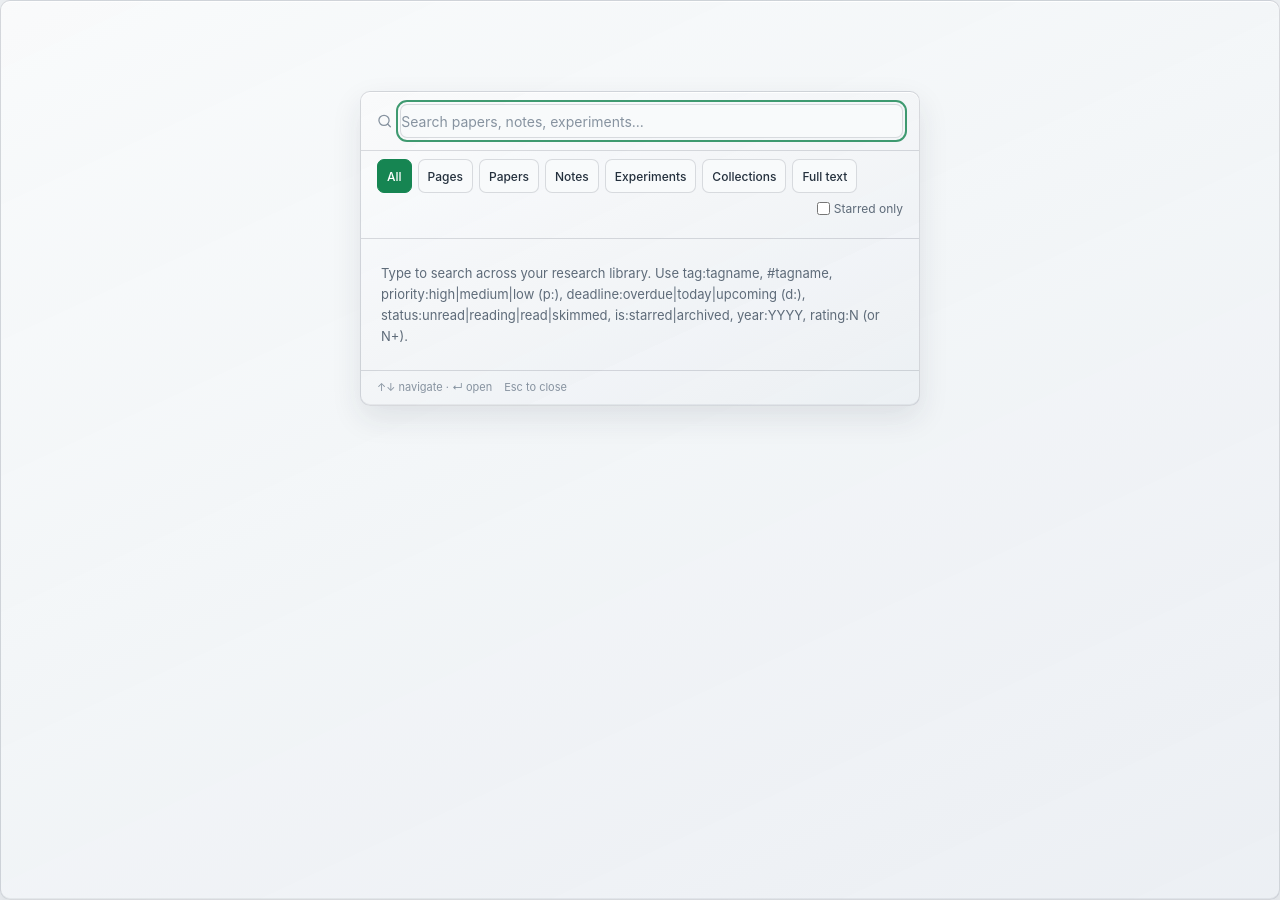
GlobalSearch full-text mode › searches paper bodies in the main process when full text is enabled
Enable full-text mode, then type a query.
Click the button with test id "fulltext-toggle" at (825, 176), box [792,159,857,193]
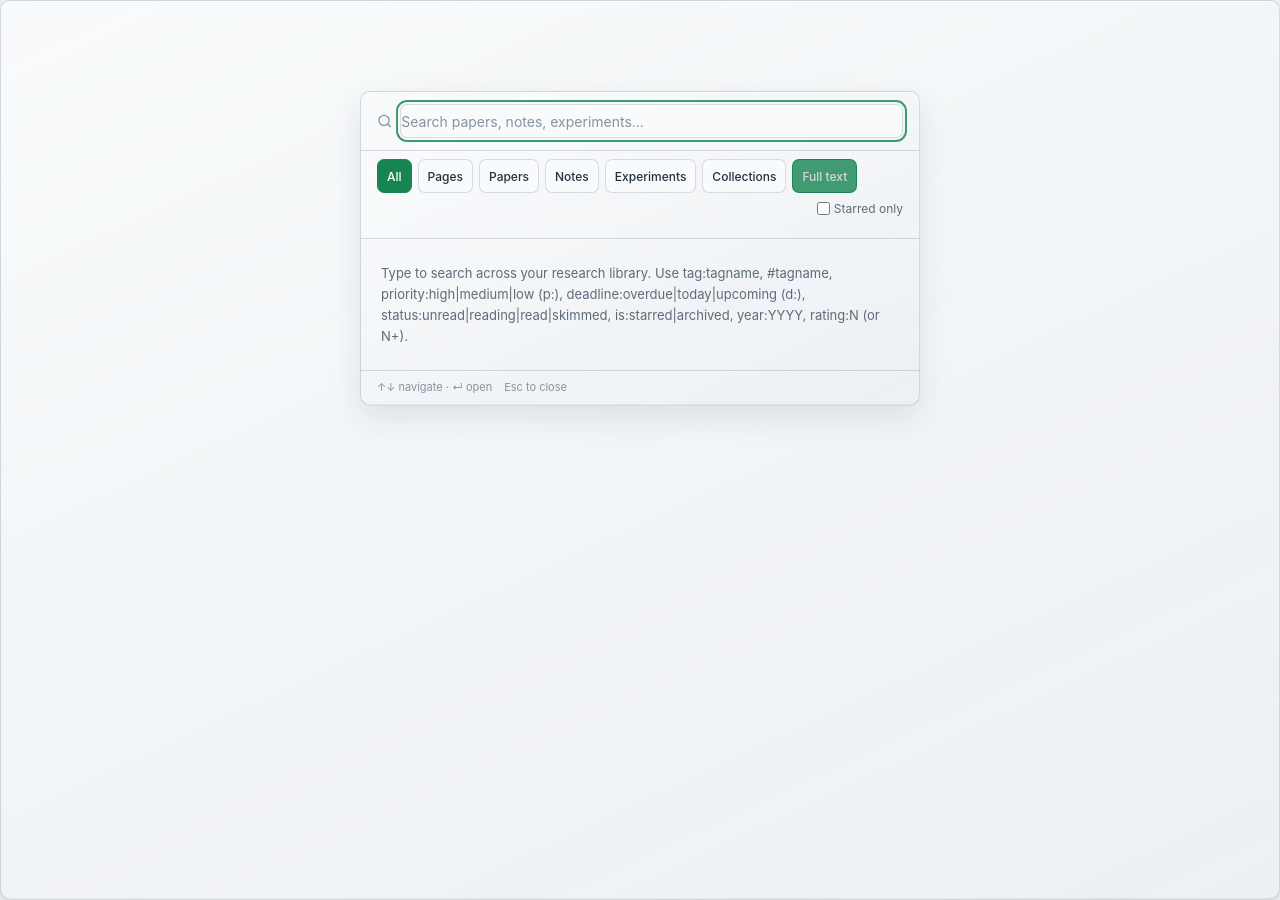
Type "attention mechanism" into the field with placeholder "Search papers, notes, experiments..." at (652, 121), box [400,104,903,138]
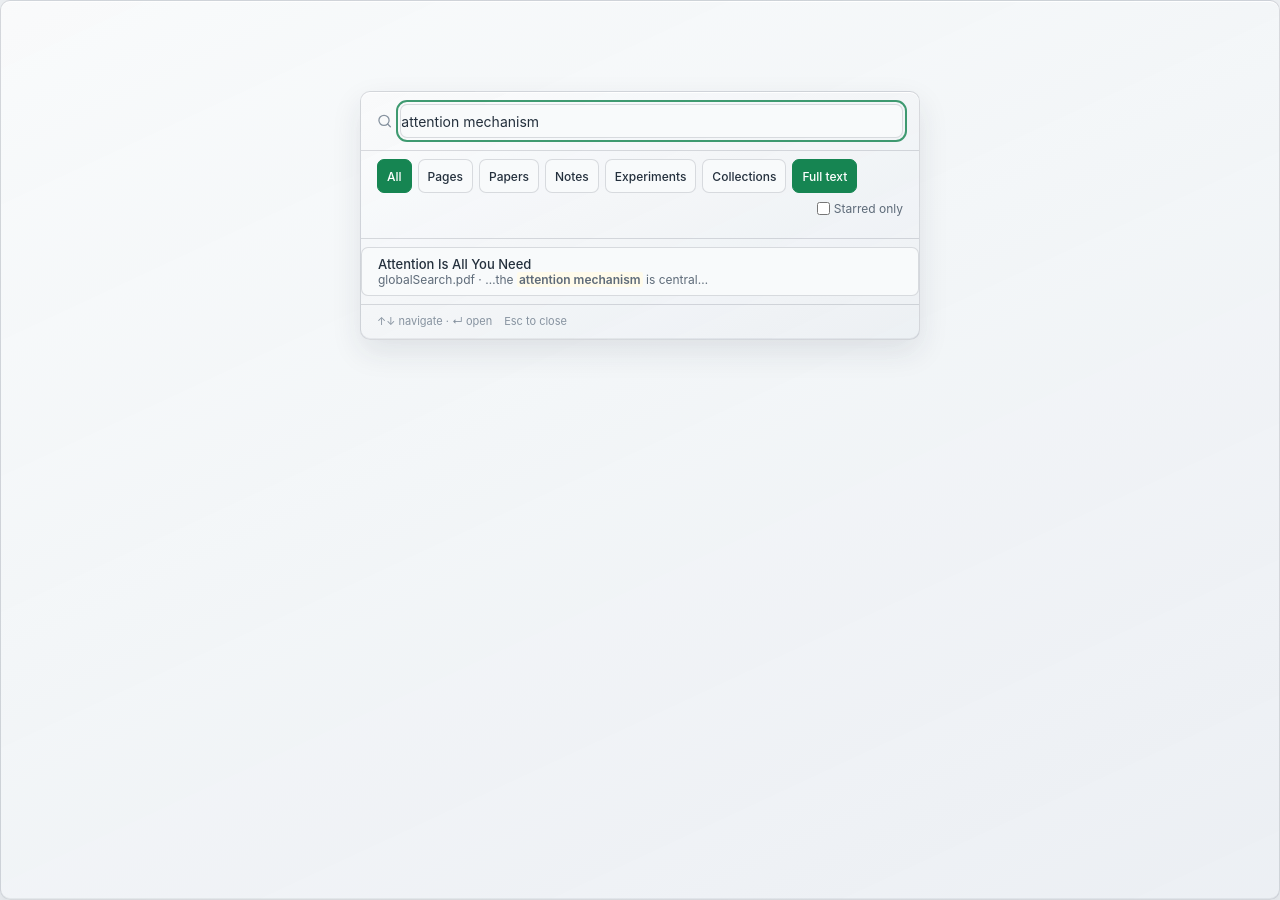
Now the button with test id "search-result" is shown, box [361,247,919,296]
